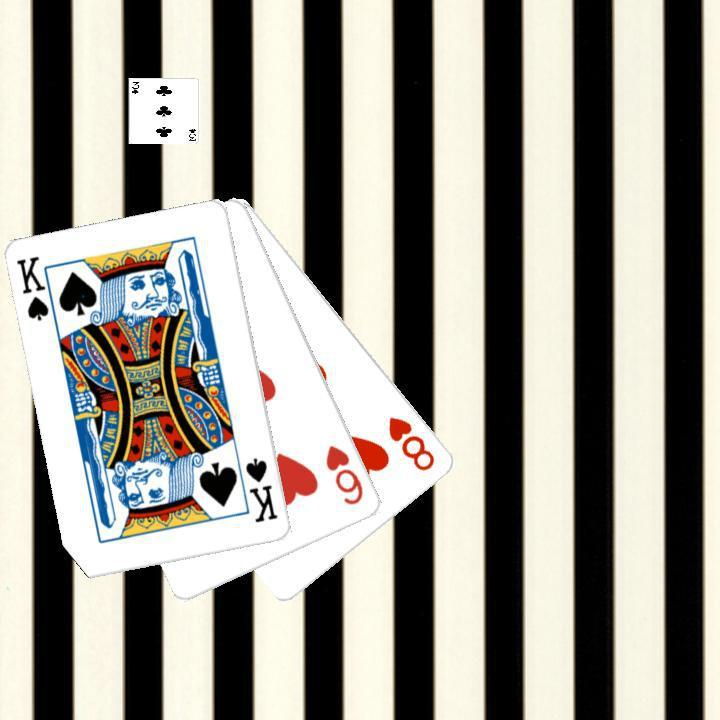6: (321, 441, 366, 508)
8: (384, 412, 438, 474)
K: (13, 252, 60, 327), (241, 453, 281, 525)
